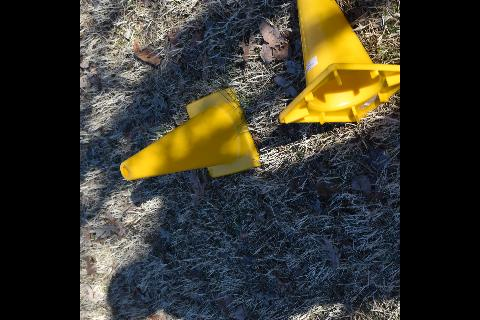cone: (278, 0, 400, 122), (119, 86, 261, 180)
